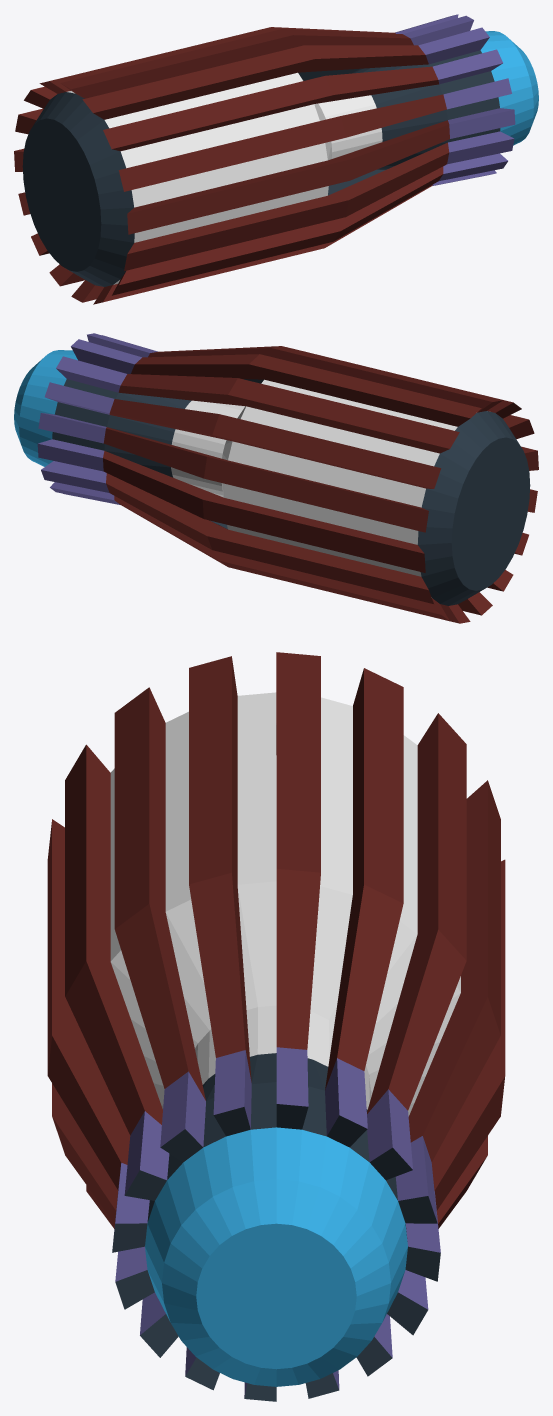
The model's file is GrappleUpper.fbx.
3 views of the same model, one above another, from view 1: azimuth 30°, elevation 25°; view 2: azimuth 150°, elevation 25°; view 3: azimuth 270°, elevation 25° (orthographic). The views are drawn at different scales.
Parts seen in each view (by area): view 1: Cylinder.008; view 2: Cylinder.008; view 3: Cylinder.008.
Part boxes in pixels (x1,y1,x2,y2): Cylinder.008: (14, 14, 538, 304); Cylinder.008: (14, 333, 538, 623); Cylinder.008: (47, 652, 505, 1401).
Bounding box in the file's own units: 91.49 × 39.67 × 39.67.
